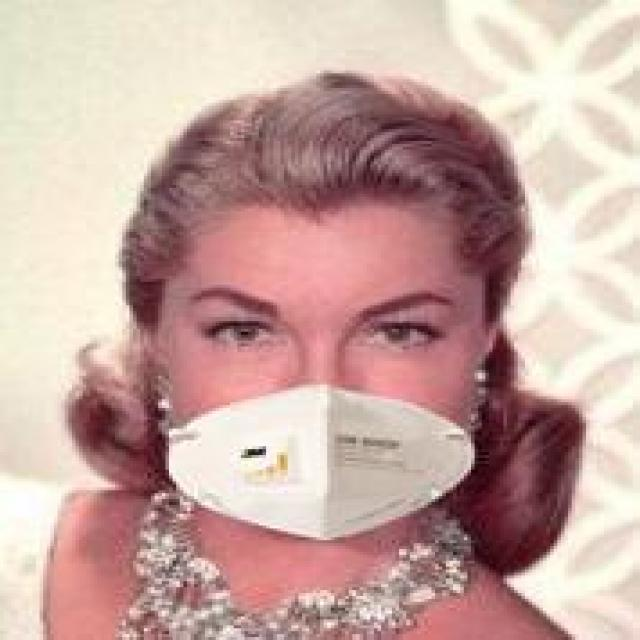mask: (108, 100, 550, 555)
